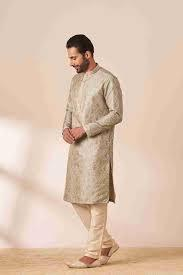Human: (53, 31, 134, 275)
